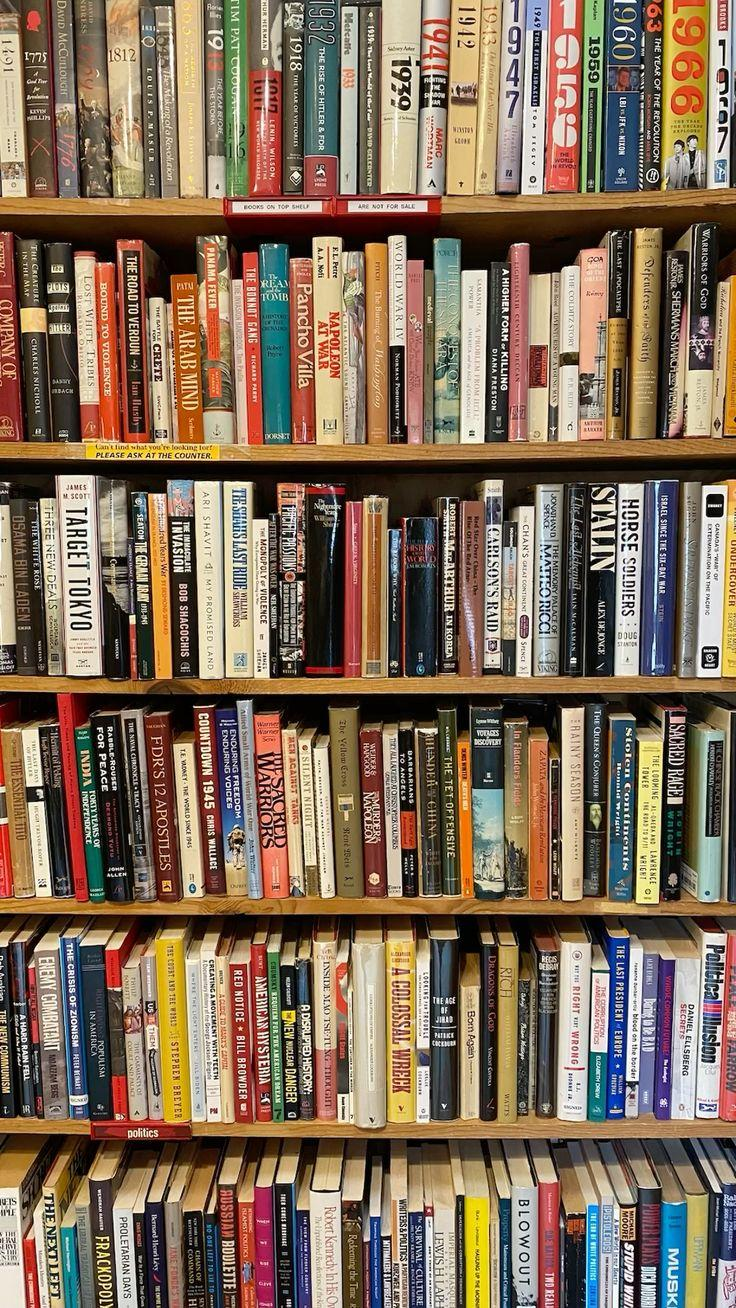book: (670, 222, 718, 439), (644, 700, 688, 906), (685, 702, 727, 908), (90, 709, 131, 907), (690, 915, 729, 1119), (664, 921, 703, 1121), (55, 695, 92, 900), (604, 4, 644, 192), (143, 708, 181, 905), (115, 238, 152, 440), (544, 3, 583, 194), (350, 920, 386, 1126), (154, 925, 191, 1125), (444, 3, 482, 196), (554, 924, 590, 1123), (76, 923, 112, 1121), (120, 706, 155, 908), (21, 3, 58, 194), (628, 227, 661, 440), (327, 703, 363, 898), (642, 482, 678, 677), (34, 926, 70, 1120), (98, 480, 132, 685), (469, 699, 504, 898), (106, 3, 142, 195), (213, 702, 248, 899), (303, 1, 338, 193), (75, 4, 110, 196), (693, 482, 727, 679), (192, 704, 226, 900), (0, 715, 36, 899), (38, 717, 73, 904), (9, 489, 44, 676), (427, 918, 459, 1122), (258, 243, 290, 445), (385, 918, 416, 1123), (312, 236, 343, 441), (630, 719, 662, 916), (166, 482, 197, 683), (586, 483, 617, 675), (496, 3, 527, 195), (247, 3, 278, 195), (576, 246, 607, 437), (432, 237, 461, 441), (606, 709, 636, 906), (195, 480, 224, 681), (224, 482, 253, 683), (532, 484, 562, 678), (174, 5, 204, 198), (580, 695, 608, 899), (603, 229, 630, 439), (530, 924, 559, 1119), (171, 730, 203, 906), (404, 516, 438, 681), (276, 483, 304, 683), (50, 2, 79, 195), (520, 2, 549, 195), (472, 920, 500, 1119), (491, 923, 519, 1122), (658, 249, 687, 440), (172, 272, 204, 444), (634, 922, 662, 1118), (314, 919, 341, 1121), (614, 481, 642, 675), (227, 932, 255, 1125), (558, 699, 585, 899), (473, 5, 501, 196), (502, 708, 529, 901), (677, 481, 703, 679), (580, 4, 607, 193), (199, 927, 225, 1123), (0, 230, 24, 440), (639, 1, 666, 187), (432, 498, 459, 683), (564, 483, 590, 675), (248, 924, 273, 1121), (361, 494, 387, 683), (652, 935, 678, 1124), (94, 259, 121, 440), (290, 258, 316, 444), (359, 716, 385, 897), (458, 501, 484, 680), (8, 932, 33, 1118), (154, 4, 178, 197), (281, 1, 305, 193), (436, 707, 460, 898), (147, 492, 171, 682), (709, 3, 734, 185), (416, 720, 441, 901), (311, 728, 337, 902), (460, 269, 486, 442), (365, 243, 388, 438), (204, 4, 227, 197), (534, 1143, 561, 1307), (138, 5, 161, 196), (508, 242, 530, 440), (458, 941, 482, 1121), (386, 234, 407, 439), (337, 4, 360, 191), (277, 925, 299, 1120), (486, 263, 510, 441), (130, 491, 152, 683), (526, 274, 551, 441), (281, 723, 304, 904), (264, 926, 285, 1123), (359, 5, 381, 192), (557, 268, 580, 440), (241, 253, 262, 441), (528, 726, 550, 905), (294, 928, 314, 1124), (381, 723, 403, 899), (342, 502, 363, 683), (397, 717, 418, 897), (404, 260, 425, 440), (516, 947, 532, 1121), (386, 527, 402, 684)
